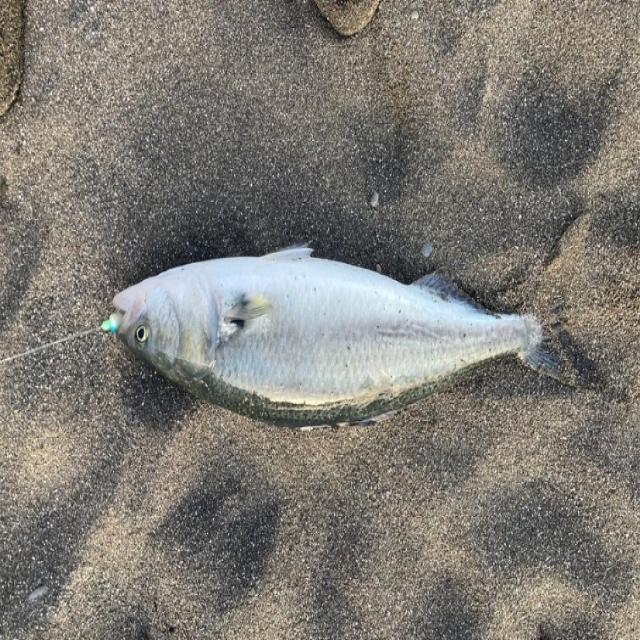Australian Salmon: (92, 212, 608, 420)
